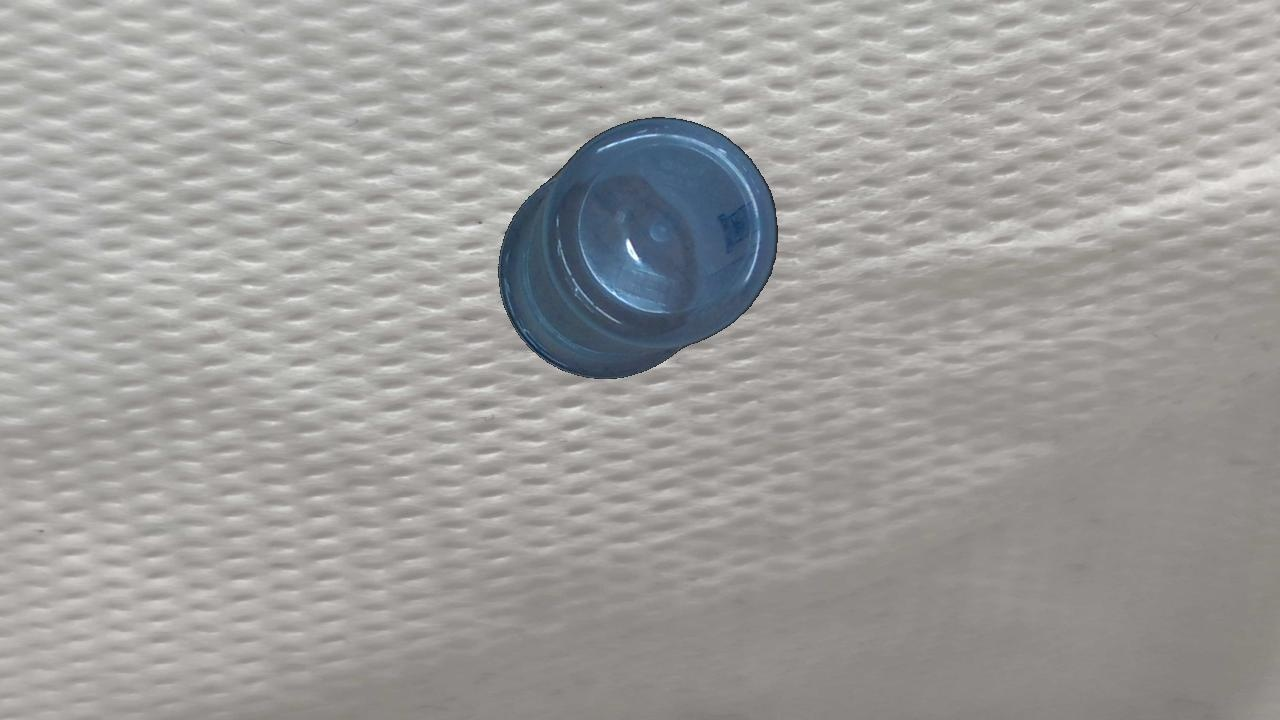cup: (498, 116, 778, 379)
